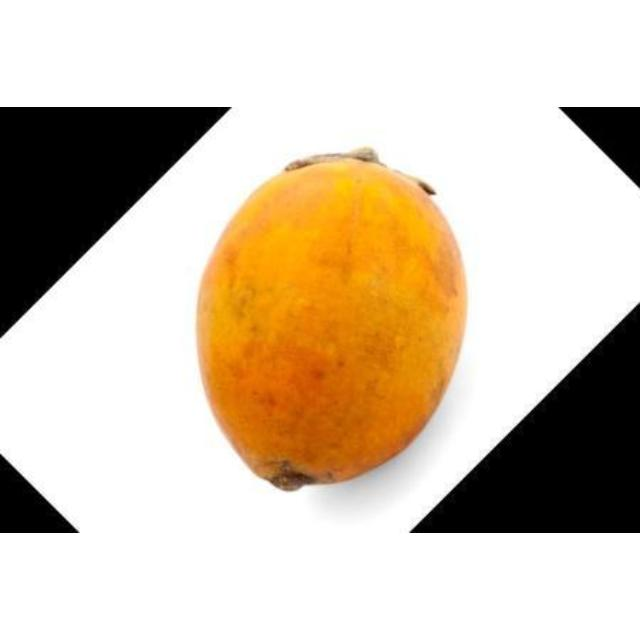good: (198, 155, 464, 488)
